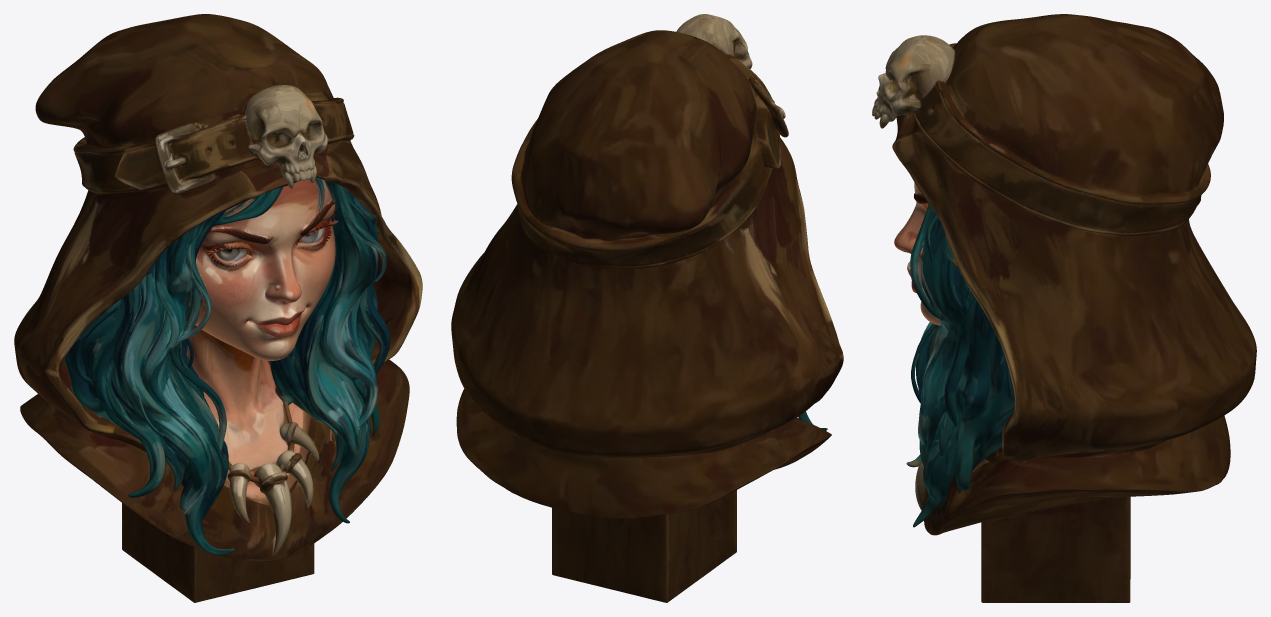
File: rooster-web.glb
3 renders of one model, left to right at view 1: azimuth 30°, elevation 25°; view 2: azimuth 150°, elevation 25°; view 3: azimuth 270°, elevation 25°, orthographic. The views are drawn at different scales.
Size of the model in its own units: 1.39 by 1.9 by 1.21.
1 material, 1 textured.
